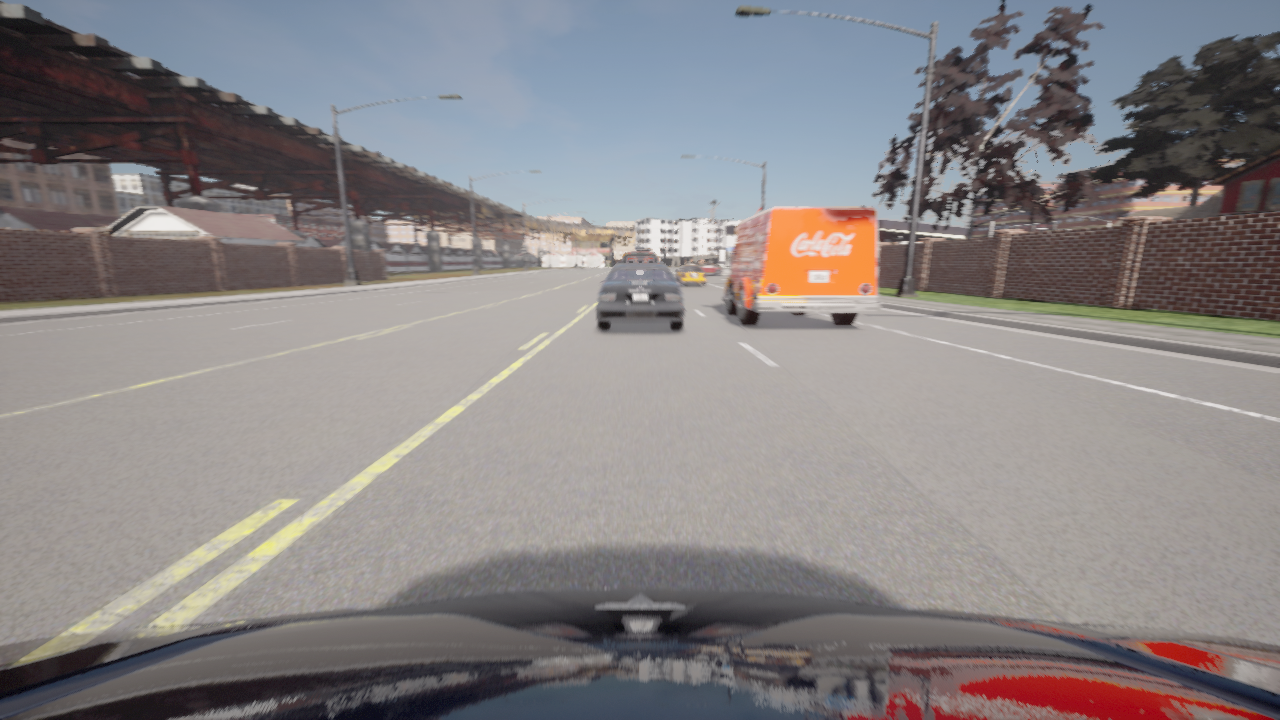cyclist: (0, 588, 1279, 719), (718, 207, 879, 326), (596, 264, 683, 329), (675, 263, 705, 286), (617, 253, 662, 264), (694, 262, 721, 275), (627, 251, 652, 252)
